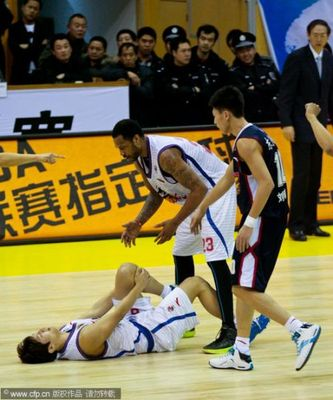10+: (1, 1, 331, 370)
down: (11, 259, 208, 366)
